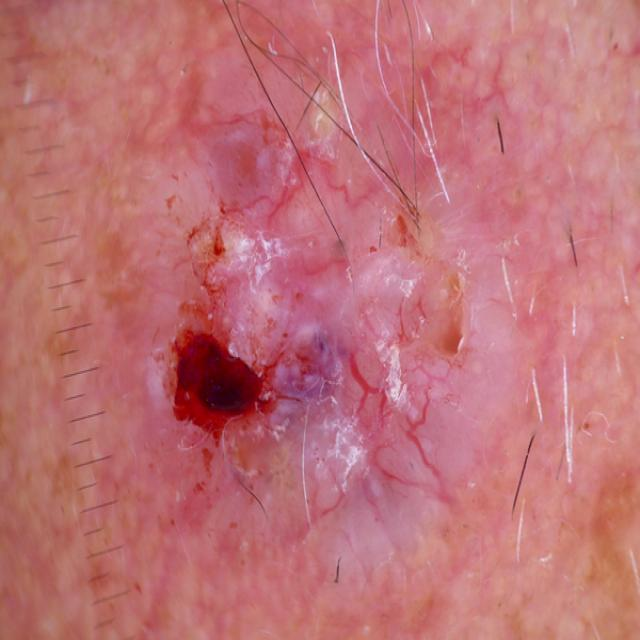Skin-Cancer Basal cell carcinoma: (102, 4, 587, 618)
